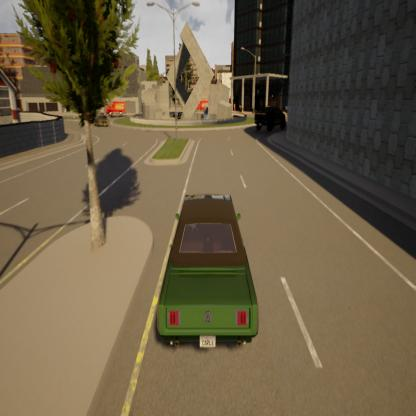Cars: (150, 172, 266, 364), (248, 94, 290, 143), (106, 96, 129, 118), (93, 108, 110, 134)
